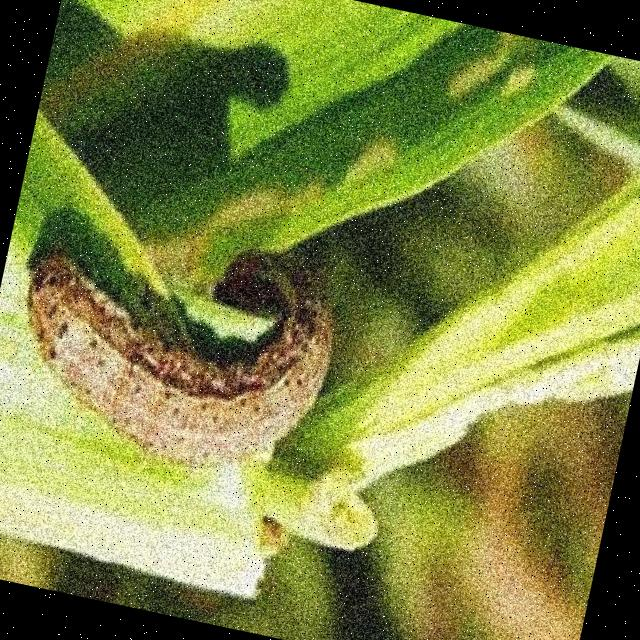worm: (1, 198, 353, 492)
